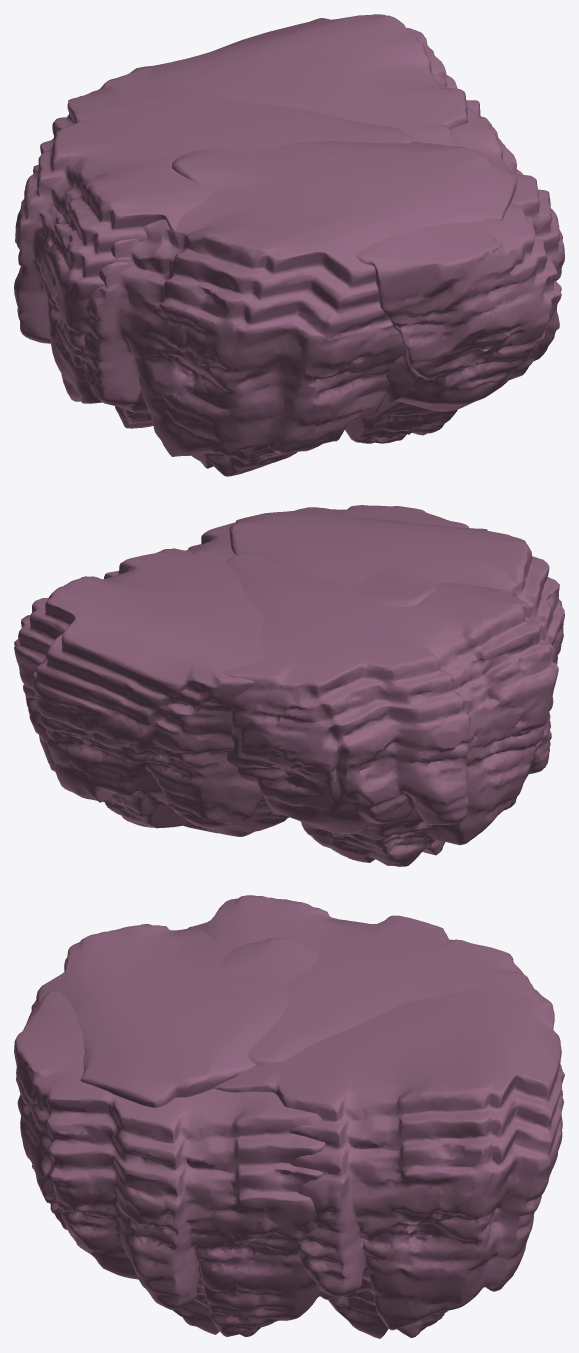
3 views of the same model, one above another, from view 1: azimuth 30°, elevation 25°; view 2: azimuth 150°, elevation 25°; view 3: azimuth 270°, elevation 25° (orthographic). The views are drawn at different scales.
Visible parts, largest first — view 1: SM_US_Cliff_01_Middle_LOD0; view 2: SM_US_Cliff_01_Middle_LOD0; view 3: SM_US_Cliff_01_Middle_LOD0.
Boxes of the visible parts, x1,y1,x2,y2 form: SM_US_Cliff_01_Middle_LOD0: (14, 14, 564, 476); SM_US_Cliff_01_Middle_LOD0: (14, 505, 564, 866); SM_US_Cliff_01_Middle_LOD0: (14, 895, 564, 1338).
Bounding box in the file's own units: 93.92 × 54 × 91.34.
